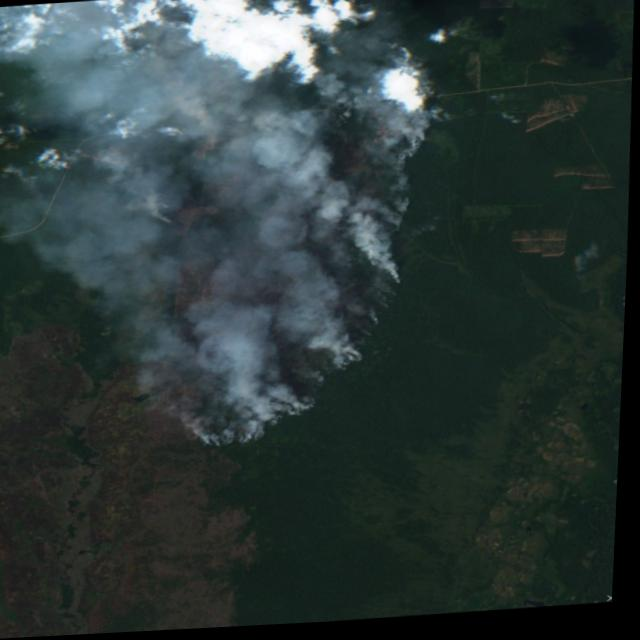fire: (154, 88, 447, 454)
